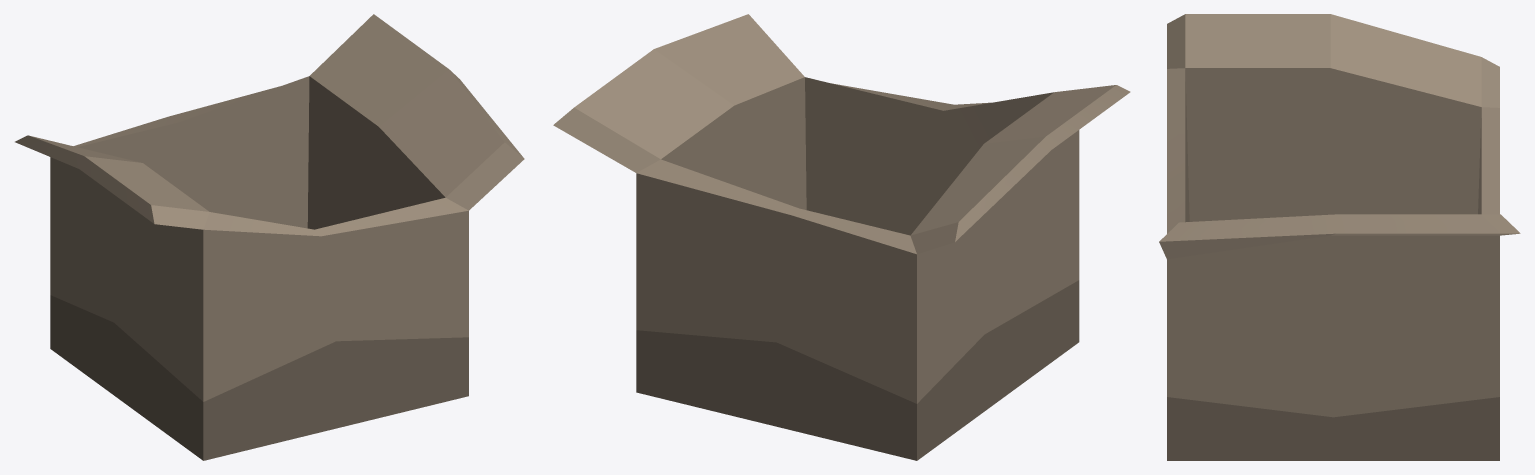
File: SM_Prop_Cardboard_Box_03.fbx
The picture shows the model from 3 angles, left to right: view 1: azimuth 30°, elevation 25°; view 2: azimuth 150°, elevation 25°; view 3: azimuth 270°, elevation 25°; orthographic projection. The views are drawn at different scales.
Parts seen in each view (by area): view 1: SM_Prop_Cardboard_Box_03; view 2: SM_Prop_Cardboard_Box_03; view 3: SM_Prop_Cardboard_Box_03.
Boxes of the visible parts, x1,y1,x2,y2 form: SM_Prop_Cardboard_Box_03: [15, 14, 524, 460]; SM_Prop_Cardboard_Box_03: [553, 14, 1130, 460]; SM_Prop_Cardboard_Box_03: [1159, 14, 1520, 460].
Bounding box in the file's own units: 80.05 × 51.93 × 60.22.
